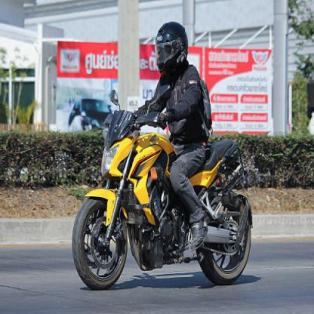Motocicleta: (71, 91, 256, 286)
